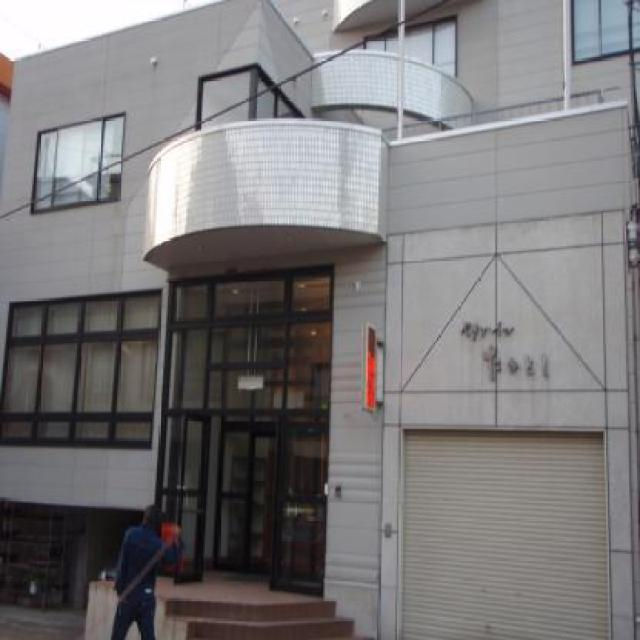Person: (102, 488, 178, 629)
